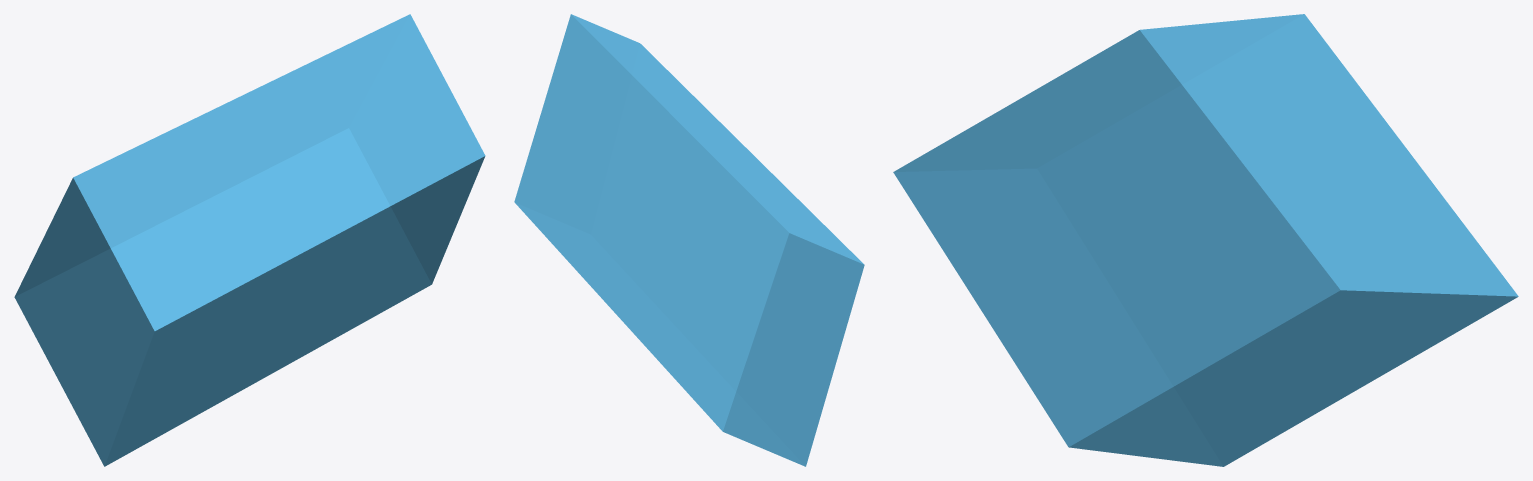
The model's file is Event_420094457_HErechit_78.fbx.
3 renders of one model, left to right at view 1: azimuth 30°, elevation 25°; view 2: azimuth 150°, elevation 25°; view 3: azimuth 270°, elevation 25°, orthographic. The views are drawn at different scales.
Parts seen in each view (by area): view 1: Model; view 2: Model; view 3: Model.
Part boxes in pixels (x1,y1,x2,y2): Model: (14, 14, 485, 466); Model: (514, 14, 864, 466); Model: (893, 14, 1518, 466).
Size of the model in its own units: 0.9139 by 1.23 by 1.05.
